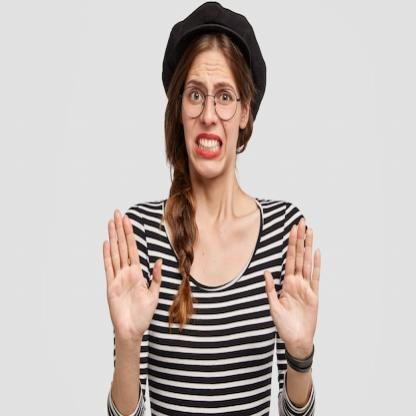stop: (100, 207, 164, 352), (262, 214, 322, 356)
